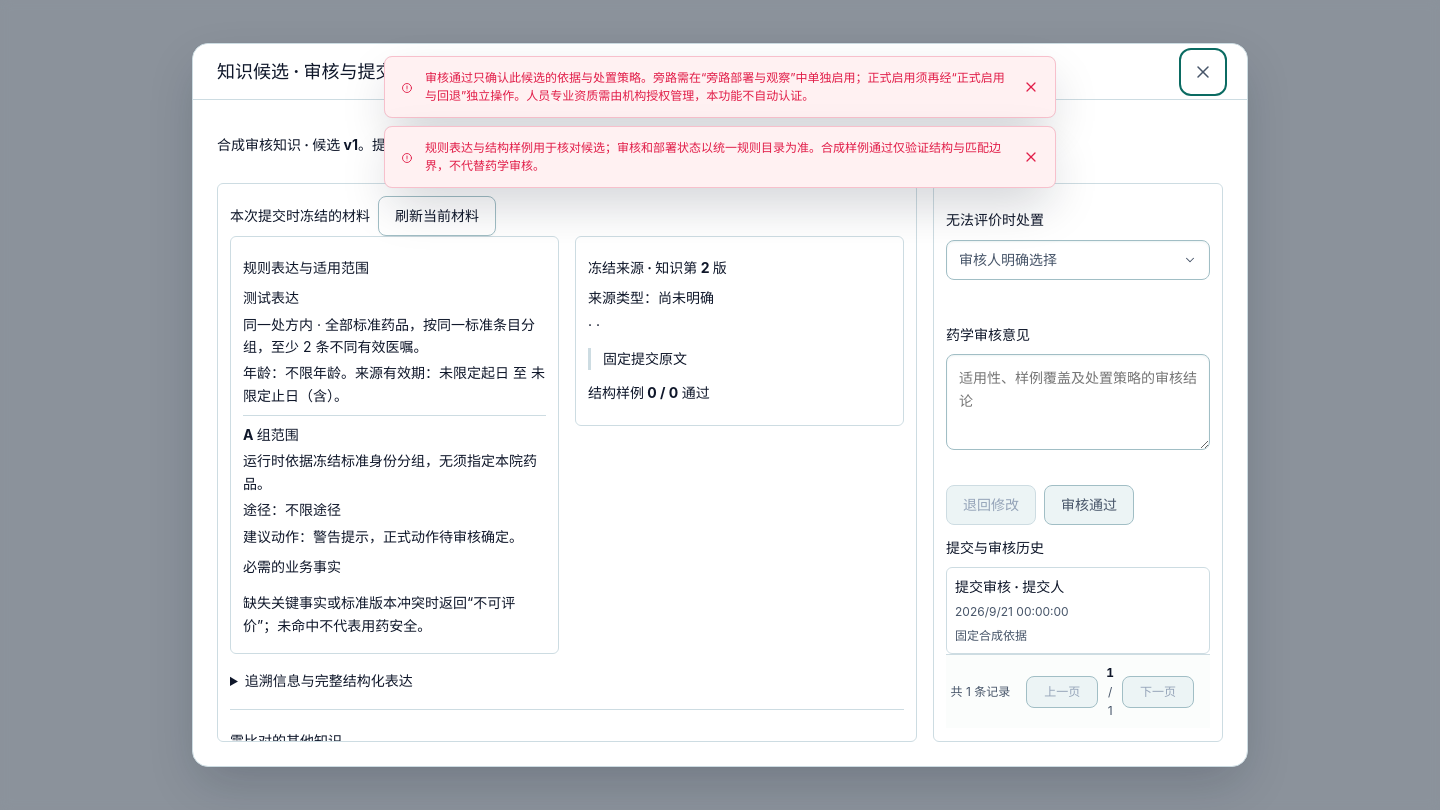
Scenario: history is read-only and failed reads or refreshes cannot leave actionable stale evidence
(page scrolled)
Click the button "提交审核 · 提交人 2026/9/21 00:00:00 固定合成依据". click: point(983, 586)
box: left=946, top=567, right=1210, bottom=654
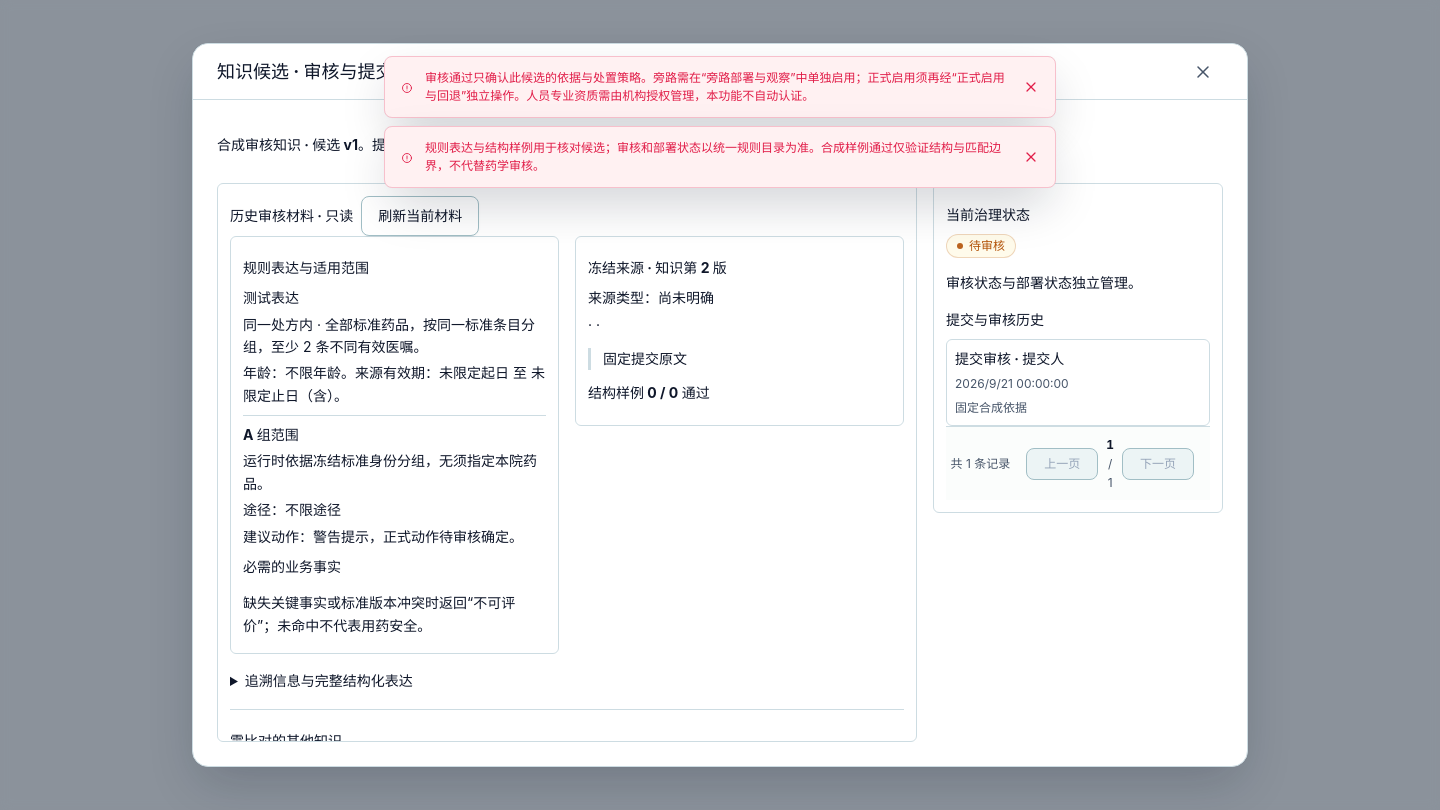
Expected: the heading "历史审核材料 · 只读" is shown, left=230, top=204, right=353, bottom=227
Click the button "提交审核 · 提交人 2026/9/21 00:00:00 固定合成依据". click: point(983, 359)
box: left=946, top=339, right=1210, bottom=426
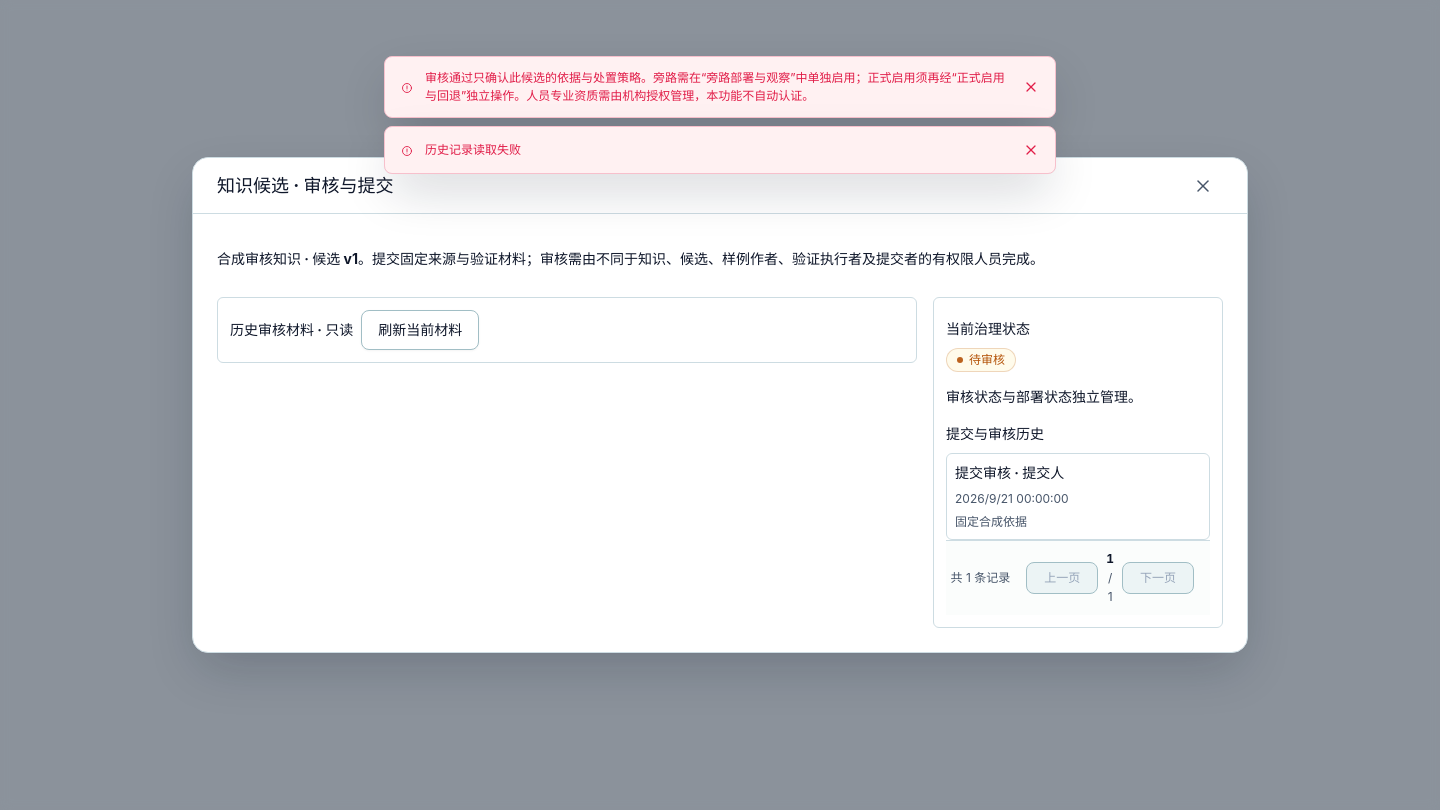
Expected: the text "历史记录读取失败" is shown, left=425, top=142, right=521, bottom=157
Expected: the text "固定提交原文" is gone
Click the button "刷新当前材料". click: point(420, 330)
box: left=361, top=310, right=479, bottom=350
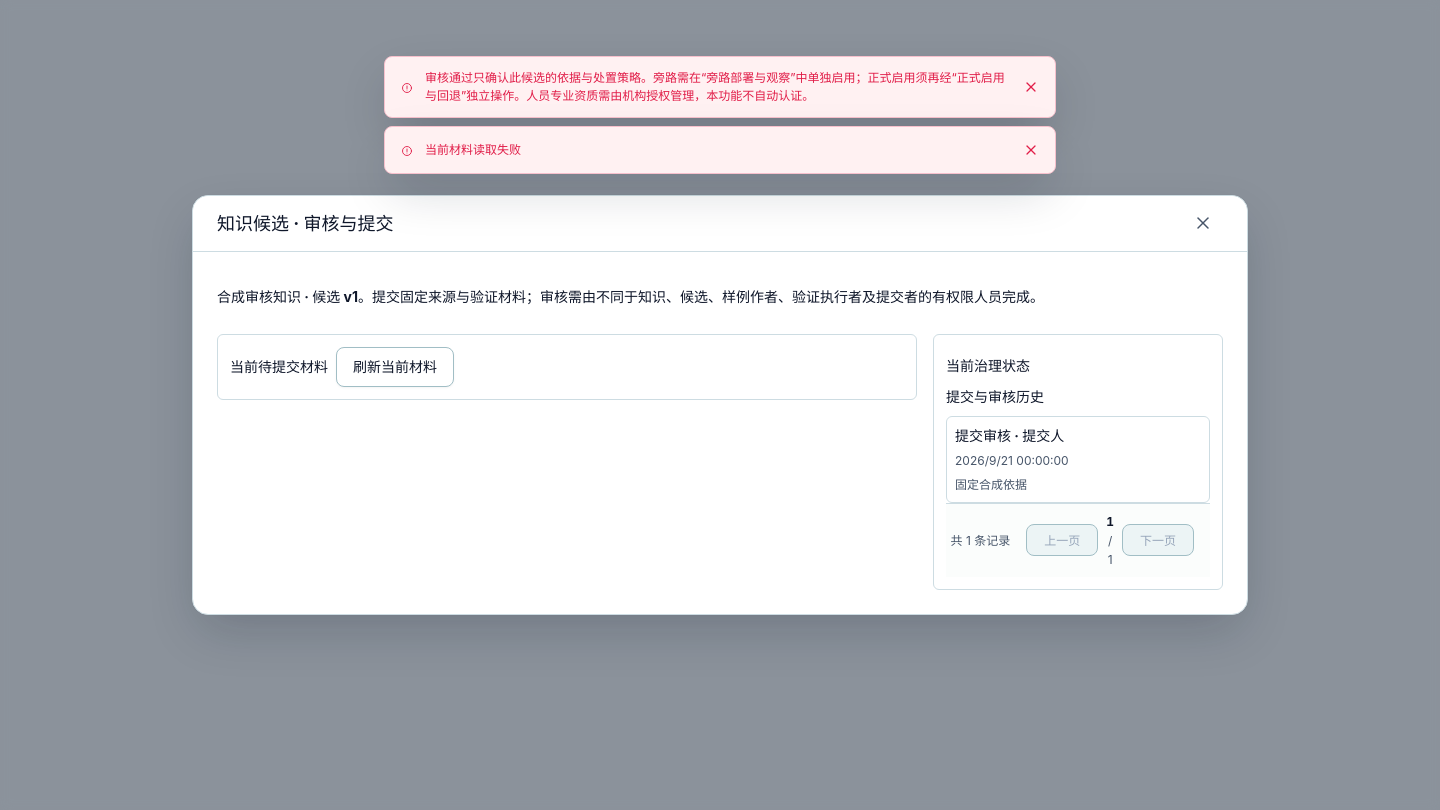
Expected: the text "当前材料读取失败" is shown, left=425, top=142, right=521, bottom=157
